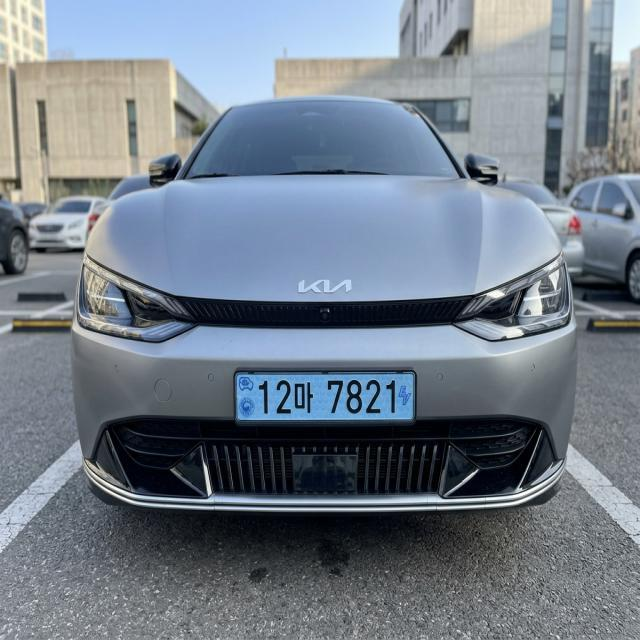car: (199, 366, 453, 433)
carev: (237, 369, 257, 429), (397, 369, 417, 425)
